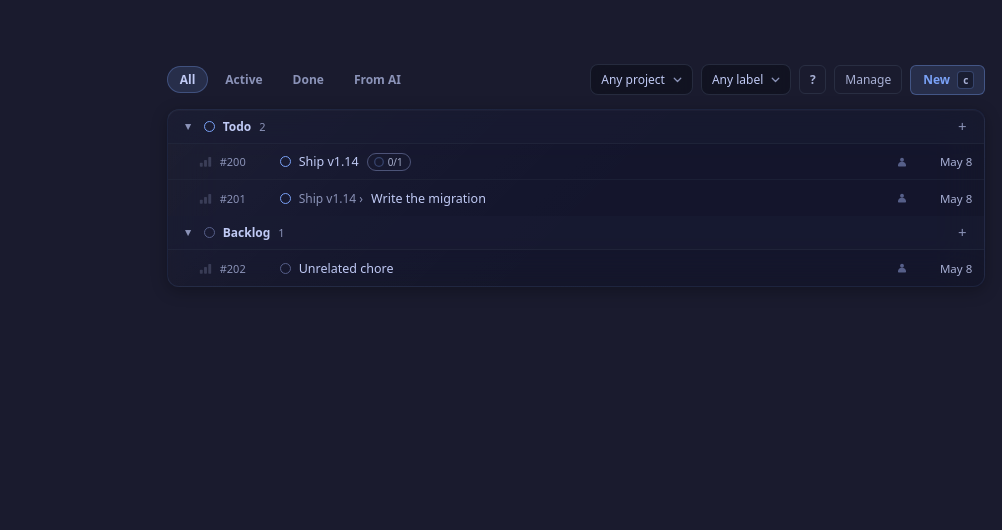
Test: TodosPage nesting › offers 'Remove from parent' only on a row that has one
Expected: the text "Ship v1.14" is shown, [299,153,359,170]
Right-click the button "#201 Ship v1.14 › Write the migration May 8": [327, 198] box [199,180,972,216]
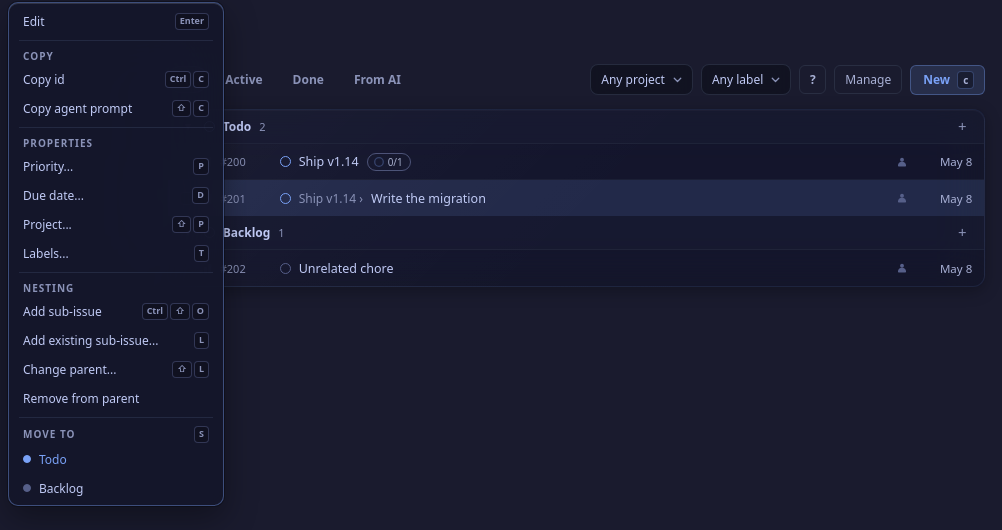
Expected: the menu item "Remove from parent" is shown, [13,384,219,413]
Expected: the menu item "Change parent... ⇧ L" is shown, [13,355,219,384]
Press Escape
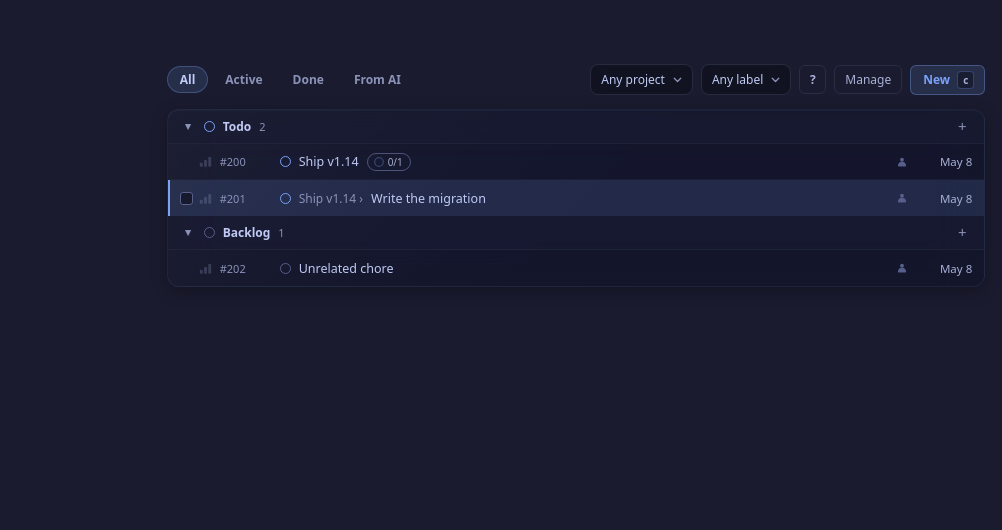
Right-click the button with aria-label "Edit Ship v1.14": [329, 162] box [199,144,972,179]
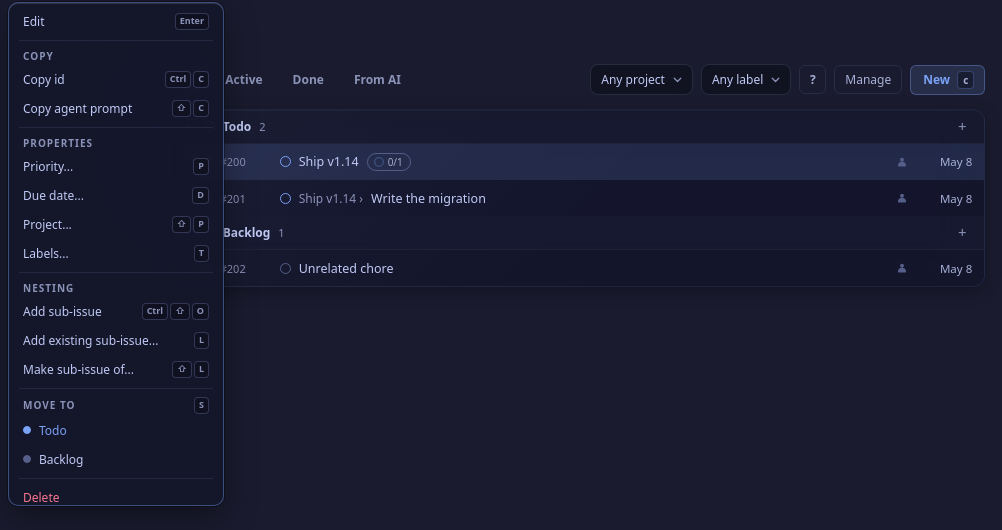
Expected: the menu item "Remove from parent" is not shown
Expected: the menu item "Make sub-issue of... ⇧ L" is shown, [13,355,219,384]
